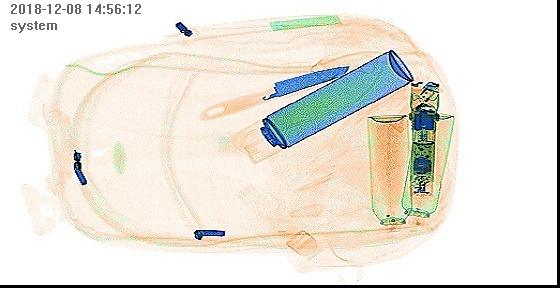knife: (197, 61, 349, 122)
pressure: (228, 47, 413, 164), (398, 109, 453, 226), (364, 113, 413, 233)
